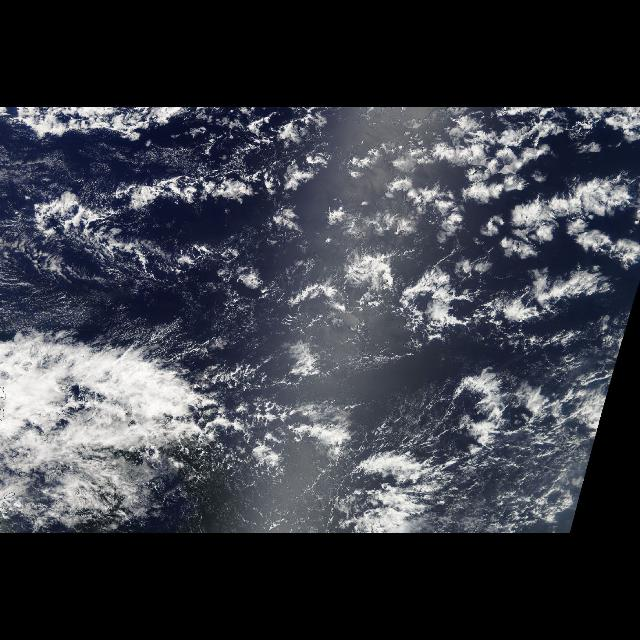Fish: (4, 117, 316, 306)
Flower: (302, 115, 640, 352)
Gravel: (230, 360, 618, 530)
